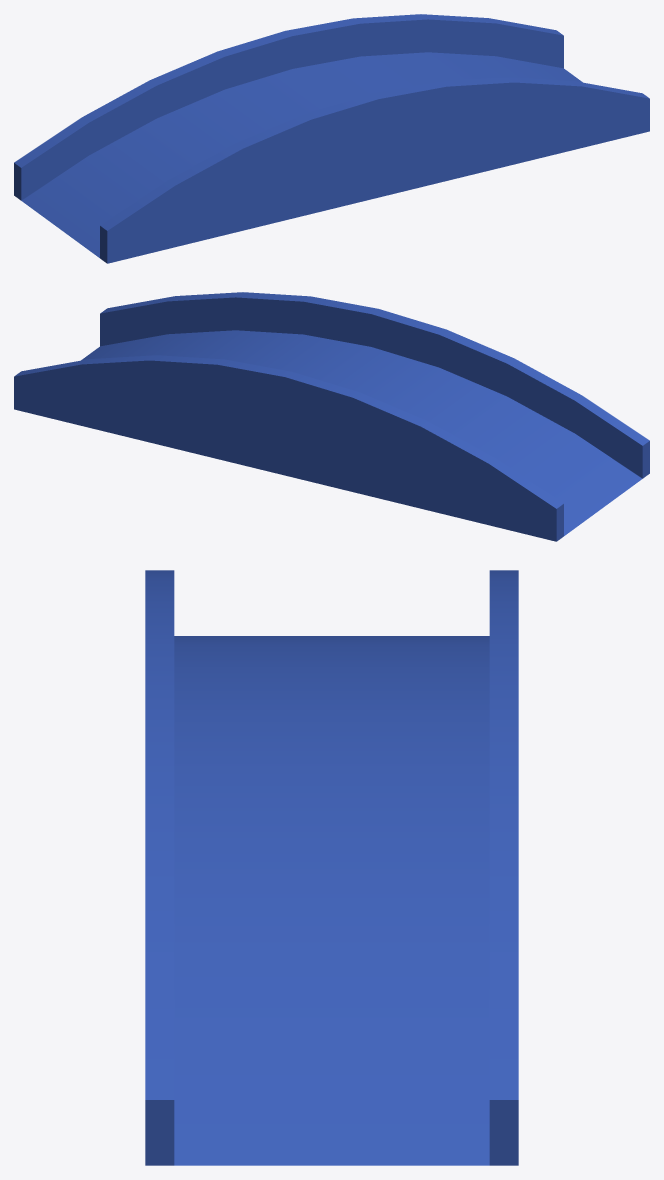
File: r2c_blue_bridge.fbx
3 renders of one model, top to bottom at view 1: azimuth 30°, elevation 25°; view 2: azimuth 150°, elevation 25°; view 3: azimuth 270°, elevation 25°, orthographic. The views are drawn at different scales.
Parts seen in each view (by area): view 1: 개체_1; view 2: 개체_1; view 3: 개체_1.
Boxes of the visible parts, x1,y1,x2,y2 form: 개체_1: (14, 14, 649, 263); 개체_1: (14, 292, 649, 541); 개체_1: (145, 570, 518, 1165).
Bounding box in the file's own units: 8.65 × 1.5 × 2.58.
